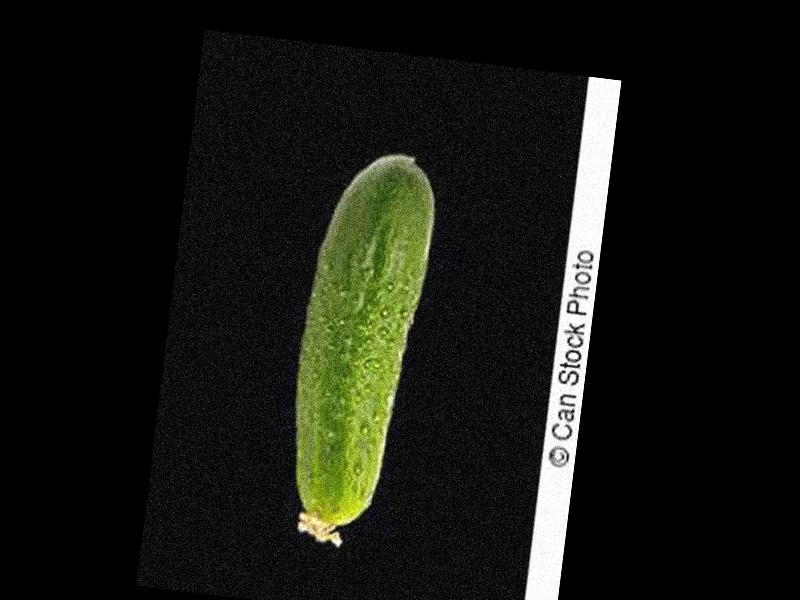Cucumber: (276, 145, 440, 553)
